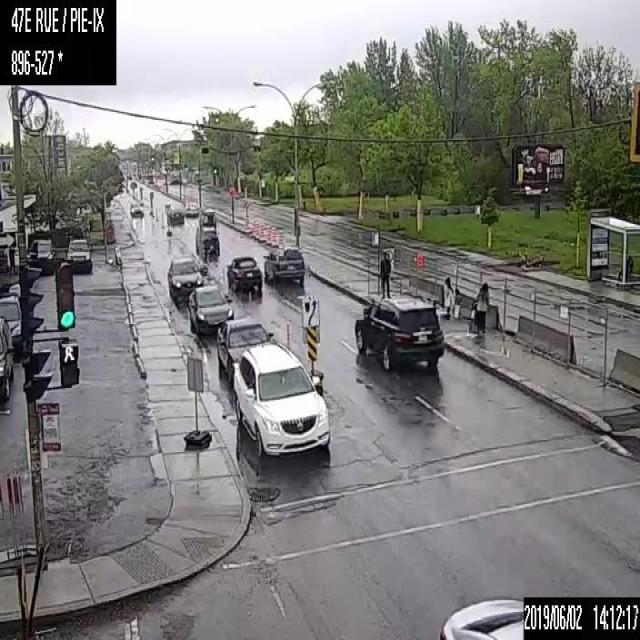construction: (284, 319, 291, 348), (278, 226, 283, 246), (266, 224, 271, 244), (247, 291, 251, 313), (272, 225, 276, 245), (259, 223, 263, 241)
pedestrian: (468, 282, 487, 334), (378, 251, 391, 300), (440, 275, 452, 320), (624, 253, 632, 280), (616, 264, 622, 281)
vehicle: (234, 344, 328, 460), (353, 296, 444, 372), (218, 316, 274, 386), (436, 597, 522, 639), (187, 283, 235, 334), (167, 257, 206, 304), (0, 288, 24, 360), (262, 246, 304, 282), (226, 256, 261, 292), (0, 315, 13, 401), (66, 237, 92, 272), (27, 237, 56, 262), (195, 226, 218, 255), (166, 202, 183, 224), (198, 207, 216, 227), (183, 202, 199, 216), (129, 200, 143, 216)
